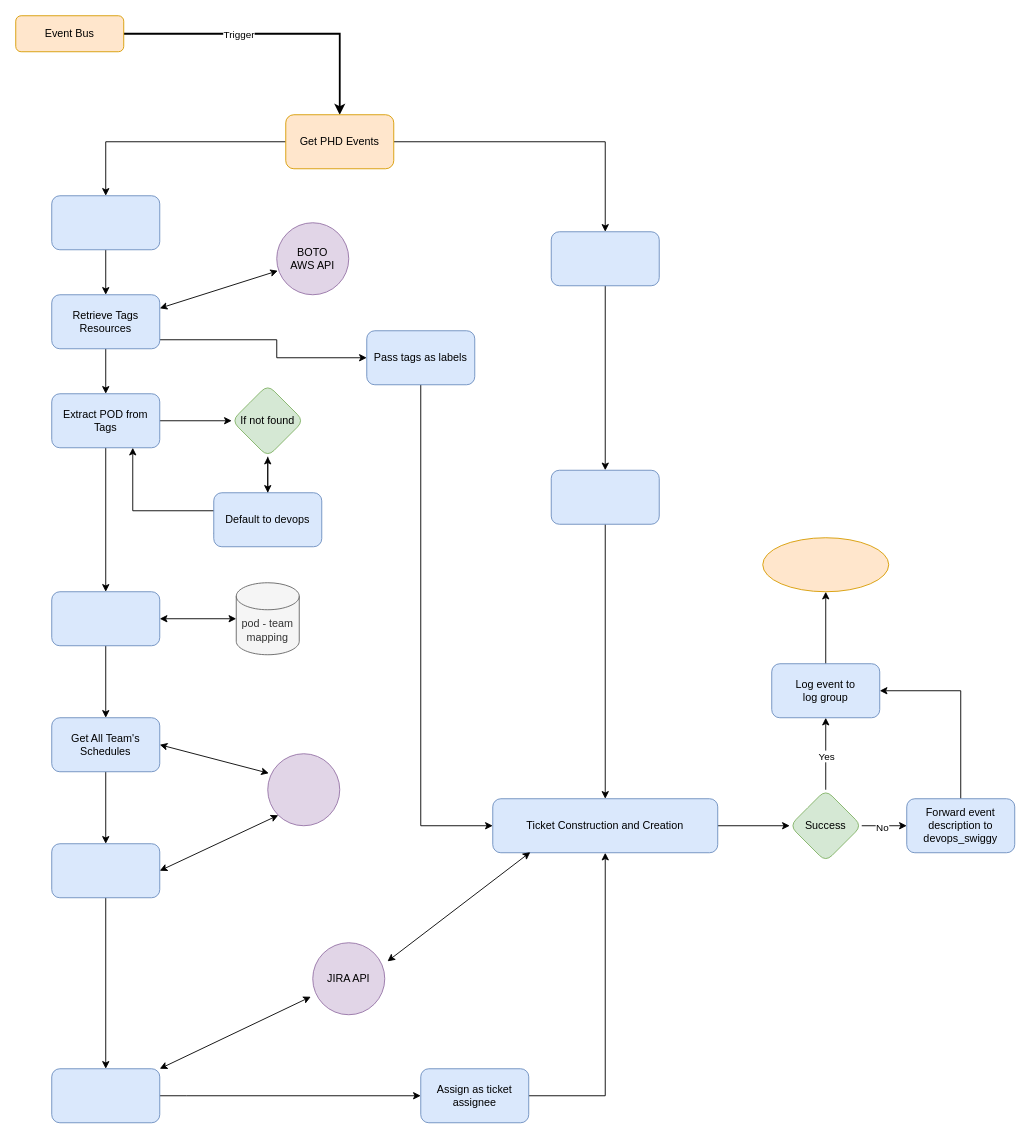
The diagram is 1031 pixels wide and 1139 high, and some of its shapes have lost their labels. Here are the shapes that lost their labels. From the top down, the box of each, then its label:
(51, 195, 160, 250): Extract Affected Resources
(550, 231, 659, 286): Get Descriptive Details
(550, 469, 659, 524): Descripition Formatting
(762, 537, 889, 592): Lambda Shutdown
(51, 591, 160, 646): Find OG team name from POD
(267, 753, 340, 826): Opsgenie API
(51, 843, 160, 898): Get OnCall's mail ID of primary schedule
(51, 1068, 160, 1123): Get JIRA account ID from mail ID
